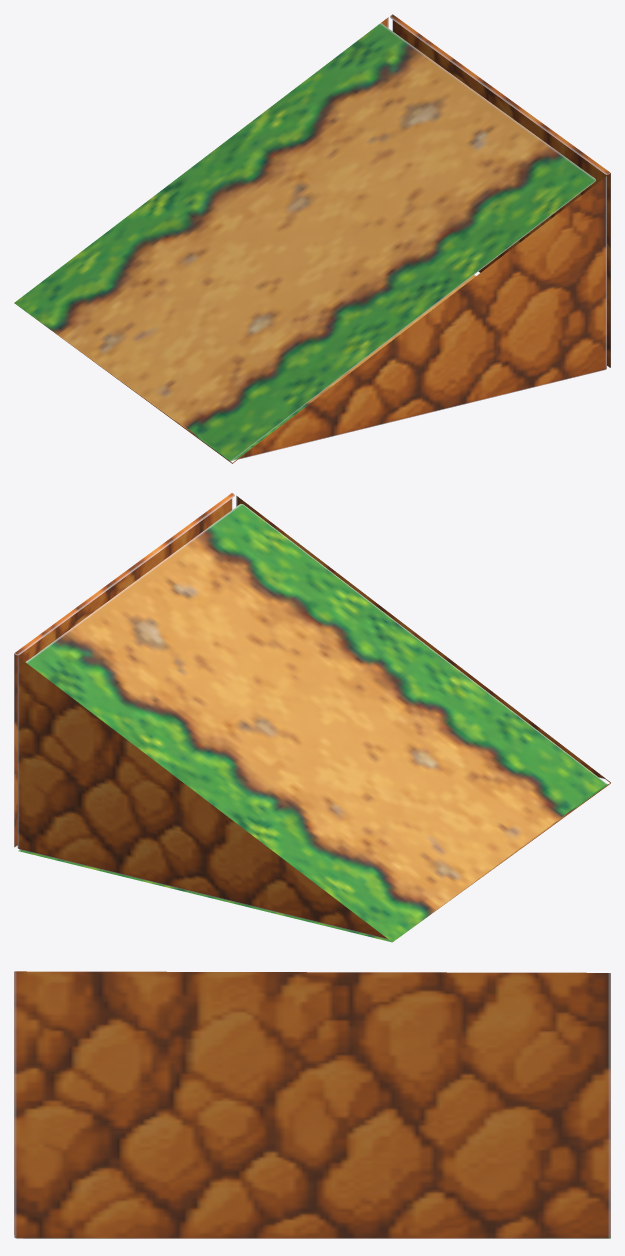
The model's file is Slope.fbx.
3 renders of one model, top to bottom at view 1: azimuth 30°, elevation 25°; view 2: azimuth 150°, elevation 25°; view 3: azimuth 270°, elevation 25°, orthographic. The views are drawn at different scales.
Visible parts, largest first — view 1: Cube; view 2: Cube; view 3: Cube.
Part boxes in pixels (x1,y1,x2,y2): Cube: [14, 14, 610, 463]; Cube: [14, 492, 610, 942]; Cube: [14, 971, 610, 1238].
Size of the model in its own units: 200 by 100 by 200.
1 material, 1 textured.
